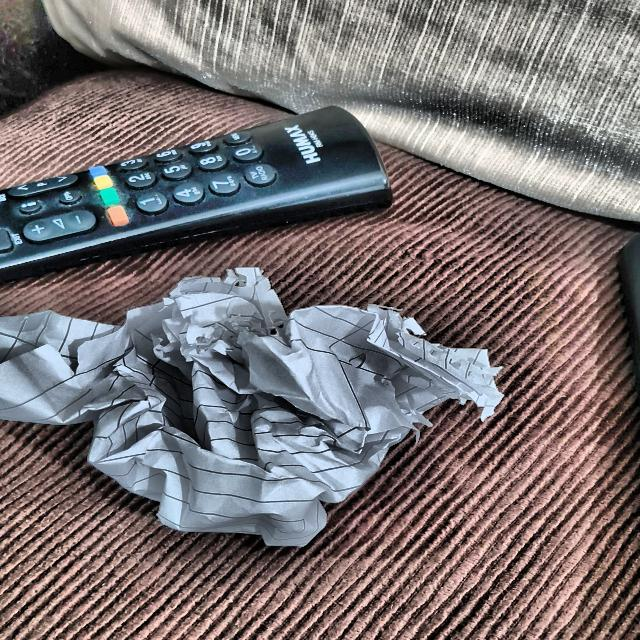paper: (0, 271, 528, 554)
